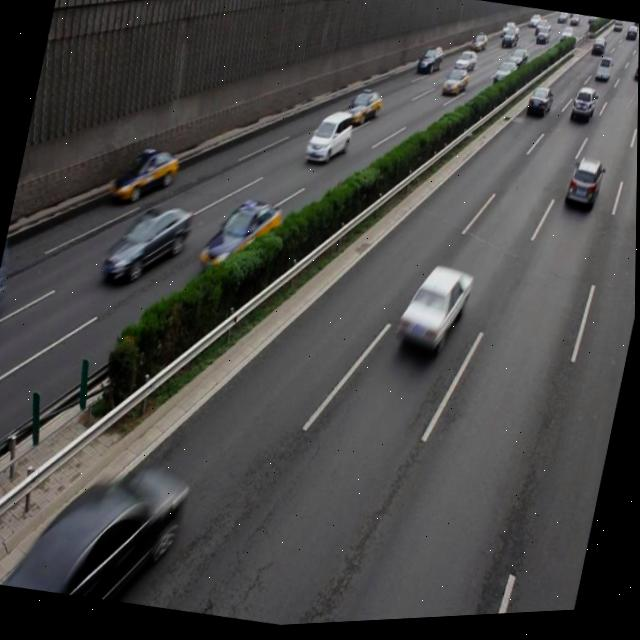car: (23, 451, 190, 616), (99, 194, 194, 296), (392, 262, 474, 366), (198, 192, 285, 285), (109, 141, 182, 212), (563, 161, 605, 221), (343, 90, 383, 133)
truck: (304, 109, 356, 170)
